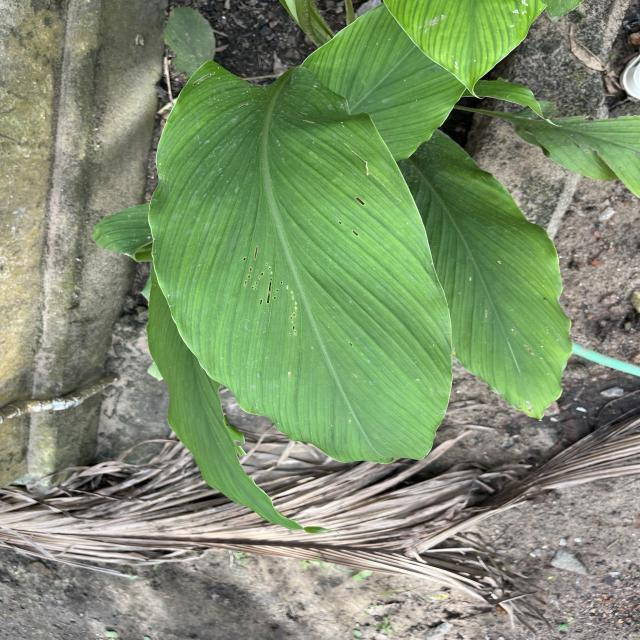Curcuma longa: (140, 53, 460, 470), (384, 125, 580, 428)
